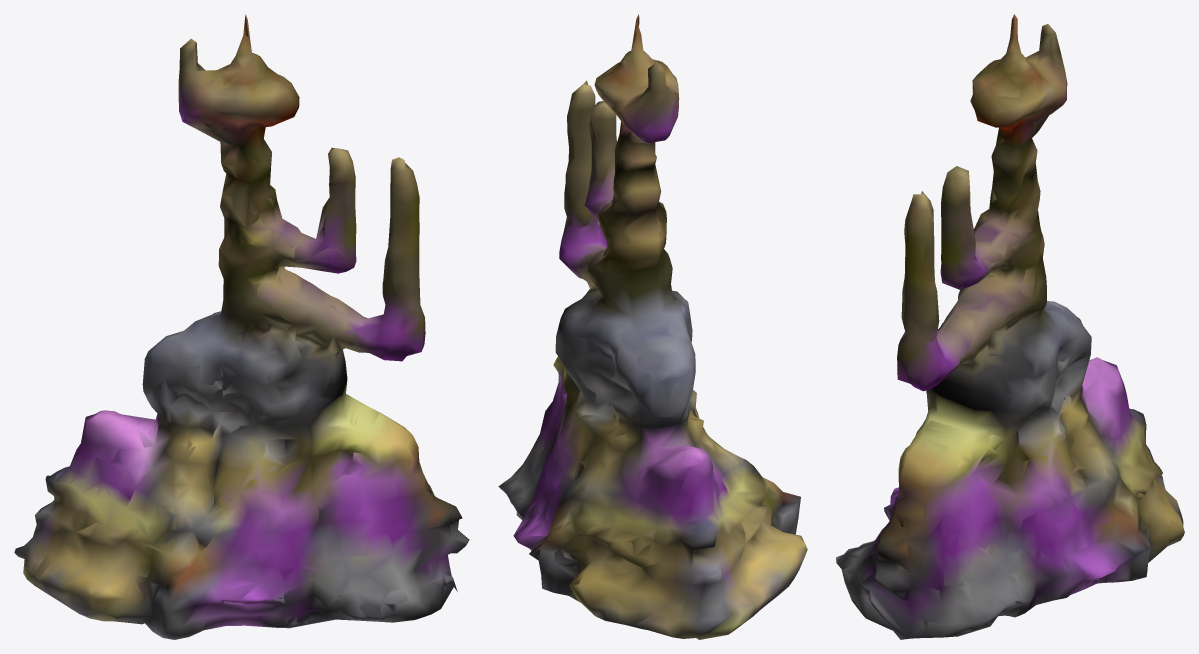
File: yuri_psychic_sensor.glb
The picture shows the model from 3 angles, left to right: view 1: azimuth 30°, elevation 25°; view 2: azimuth 150°, elevation 25°; view 3: azimuth 270°, elevation 25°; orthographic projection. The views are drawn at different scales.
Visible parts, largest first — view 1: yuri_psychic_sensor; view 2: yuri_psychic_sensor; view 3: yuri_psychic_sensor.
Part boxes in pixels (x1,y1,x2,y2): yuri_psychic_sensor: [14, 14, 469, 639]; yuri_psychic_sensor: [498, 14, 807, 639]; yuri_psychic_sensor: [836, 14, 1184, 639].
Bounding box in the file's own units: 0.9864 × 1.62 × 0.9229.
